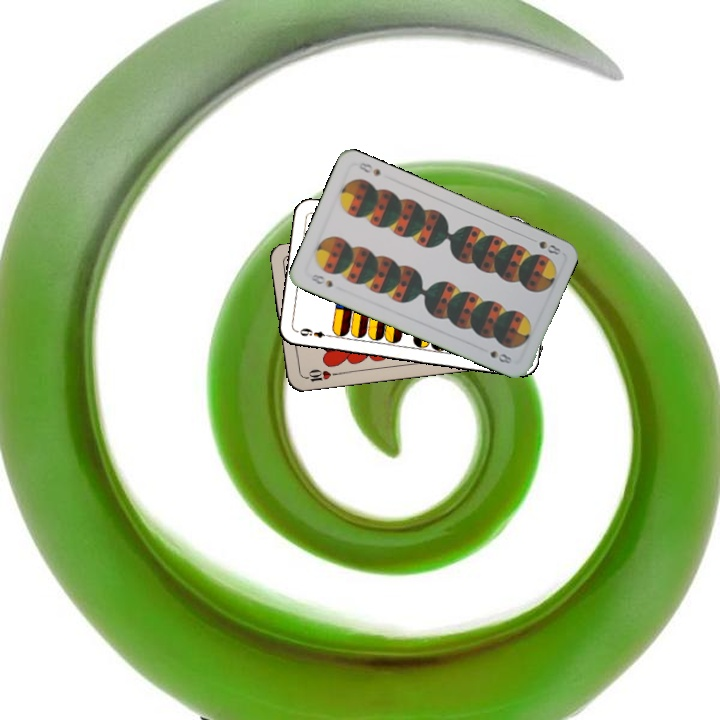E9: (294, 324, 335, 340)
H10: (299, 365, 340, 385)
S8: (535, 237, 563, 258), (307, 270, 335, 290)
